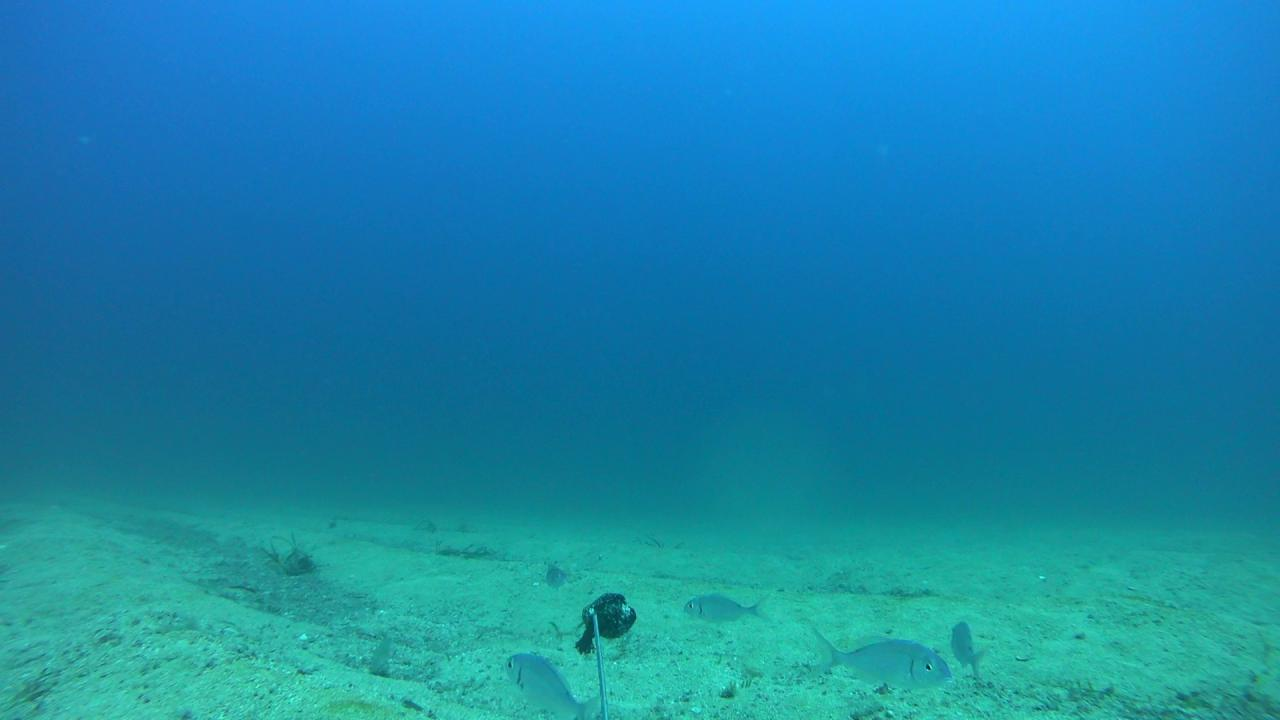pagellus: (814, 628, 952, 690), (681, 593, 768, 625), (948, 620, 991, 675)
